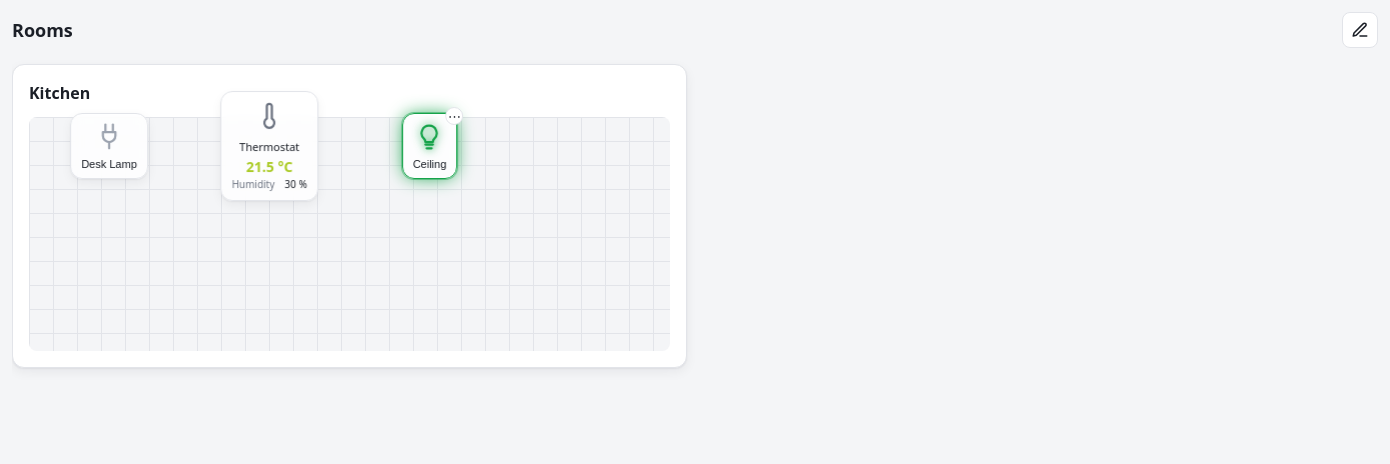
Scenario: RoomsFloorPlan › shows rename and delete controls in edit mode
The image size is (1390, 464).
Expected: the heading "Kitchen" is shown, [29,81,90,105]
Click the button named "Edit layout": click(1360, 30) [1342,12,1378,48]
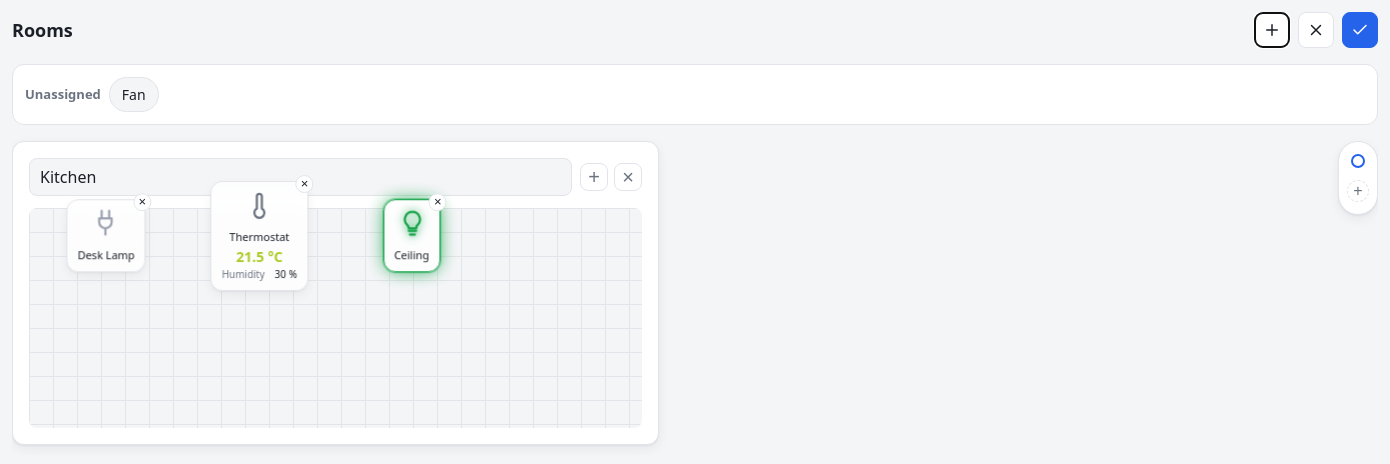
Result: the field named "Rename Kitchen" is shown at [29,158,572,196]
Result: the button named "Delete Kitchen" is shown at [614,163,642,191]
